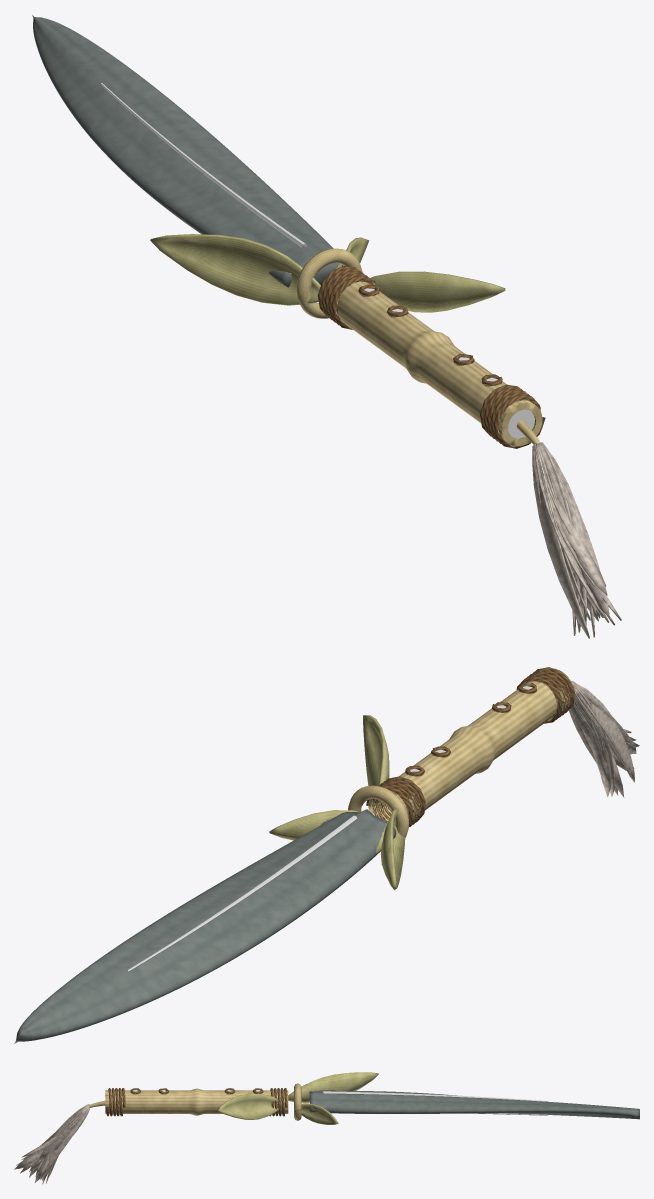
Rendered from Sword1.fbx.
3 renders of one model, top to bottom at view 1: azimuth 30°, elevation 25°; view 2: azimuth 150°, elevation 25°; view 3: azimuth 270°, elevation 25°, orthographic. The views are drawn at different scales.
Visible parts, largest first — view 1: Sword1_Body, Sword1_Glow_3caaff; view 2: Sword1_Body, Sword1_Glow_3caaff; view 3: Sword1_Body, Sword1_Glow_3caaff.
Part boxes in pixels (left/top/right/bottom): Sword1_Body: left=32, top=15, right=621, bottom=638; Sword1_Glow_3caaff: left=100, top=83, right=535, bottom=438; Sword1_Body: left=14, top=667, right=639, bottom=1043; Sword1_Glow_3caaff: left=127, top=686, right=532, bottom=971; Sword1_Body: left=14, top=1072, right=639, bottom=1184; Sword1_Glow_3caaff: left=133, top=1090, right=547, bottom=1115.
Bounding box in the file's own units: 1.2 × 1.19 × 6.64.
2 materials, 1 textured.
